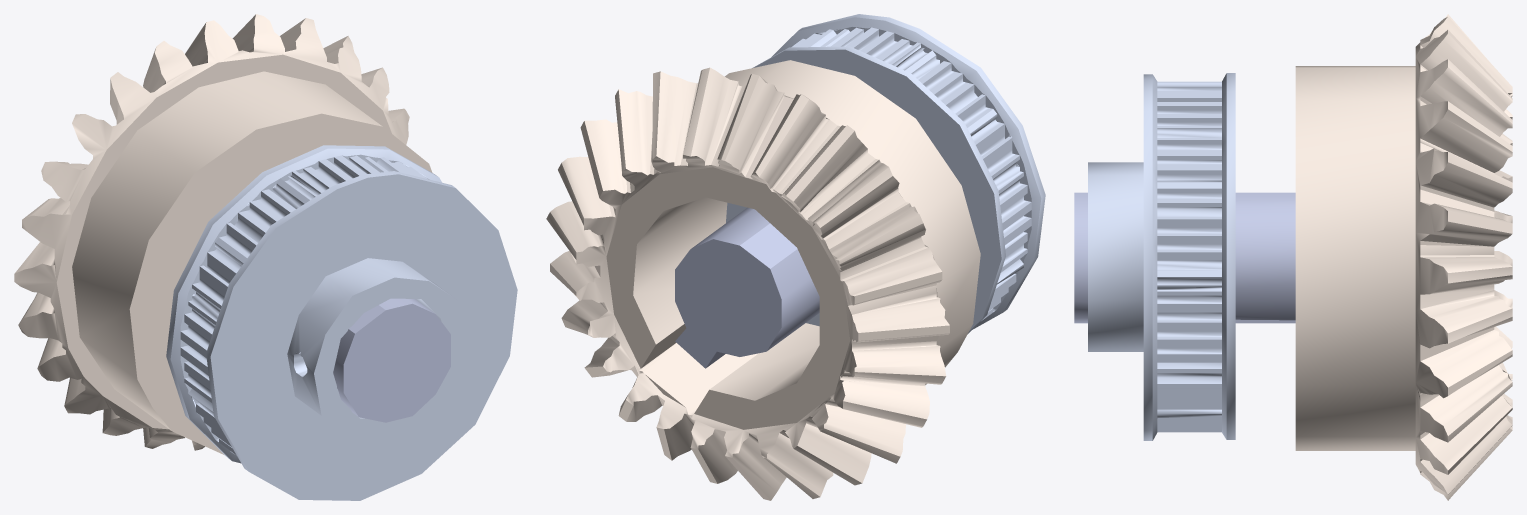
Rendered from wrist_right_gear_link.dae.
3 views of the same model, side by side, from view 1: azimuth 30°, elevation 25°; view 2: azimuth 150°, elevation 25°; view 3: azimuth 270°, elevation 25° (orthographic). The views are drawn at different scales.
Visible parts, largest first — view 1: wrist_right_gear_link; view 2: wrist_right_gear_link; view 3: wrist_right_gear_link.
Boxes of the visible parts, box(x1,y1,x2,y2) form: wrist_right_gear_link: box(14, 14, 517, 500); wrist_right_gear_link: box(546, 14, 1045, 500); wrist_right_gear_link: box(1074, 14, 1512, 500).
Bounding box in the file's own units: 0.053 × 0.0475 × 0.053.
